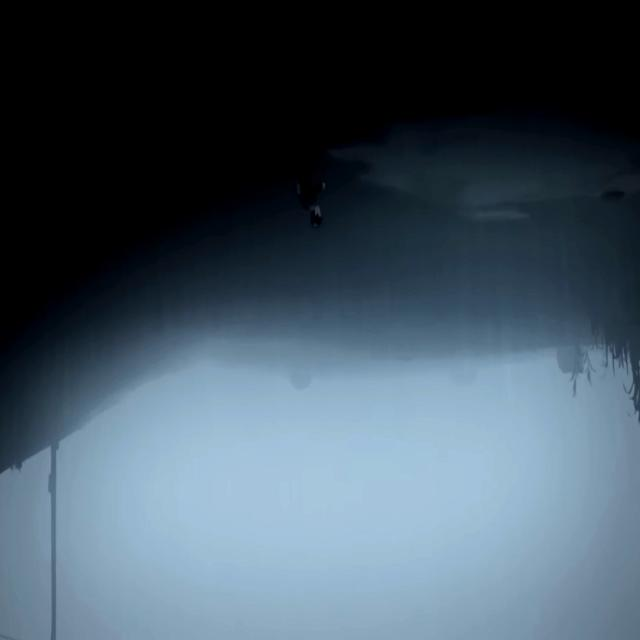boy: (290, 146, 325, 229)
